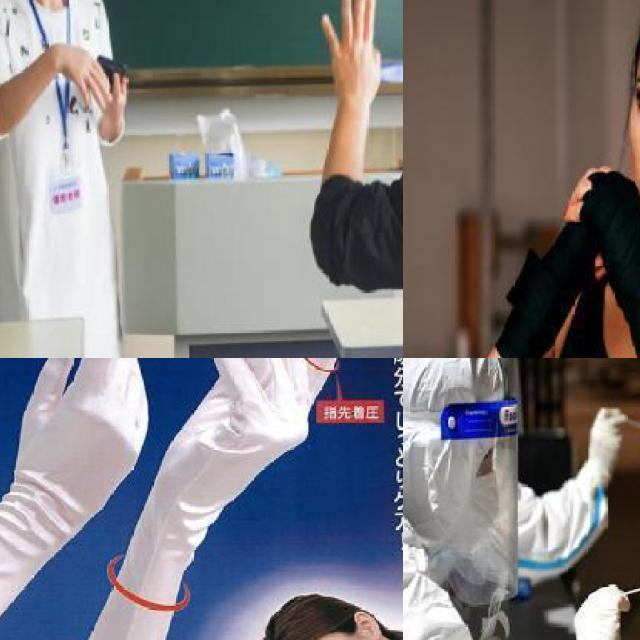No_Ear-Protection: (352, 607, 384, 640)
hand_glove: (174, 358, 362, 501), (19, 358, 150, 513), (560, 161, 640, 286), (567, 579, 634, 640), (581, 406, 624, 494)
hand_noglove: (318, 0, 383, 102), (62, 41, 114, 117), (99, 73, 128, 129)
head_nohelmet: (265, 584, 345, 640)
person: (429, 0, 640, 358), (0, 0, 142, 358), (403, 358, 577, 640), (314, 0, 403, 358)
